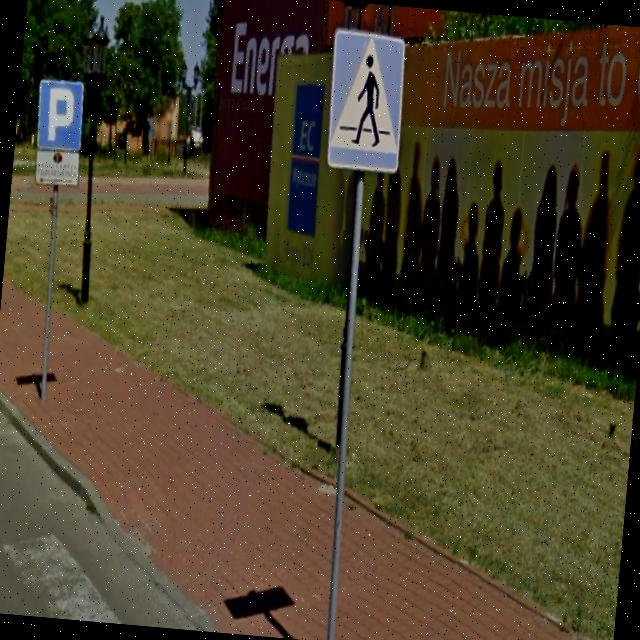Przejscie dla pieszych: (321, 26, 409, 176)
